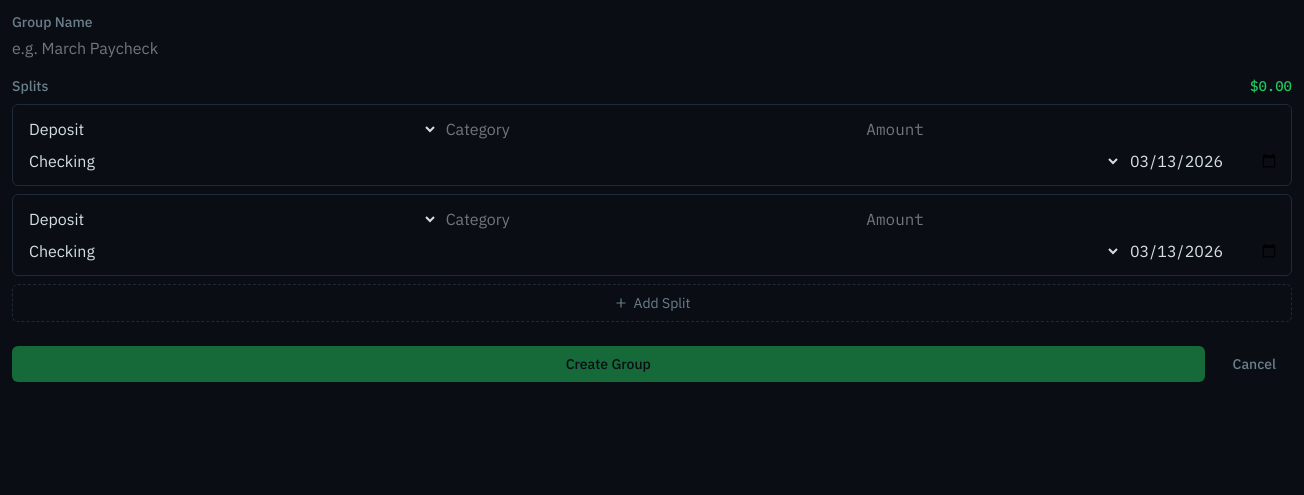
Test case: TransactionGroupForm › adds a new member row when clicking add button
Click the button "Add Split" at (652, 303), box [12,284,1292,322]
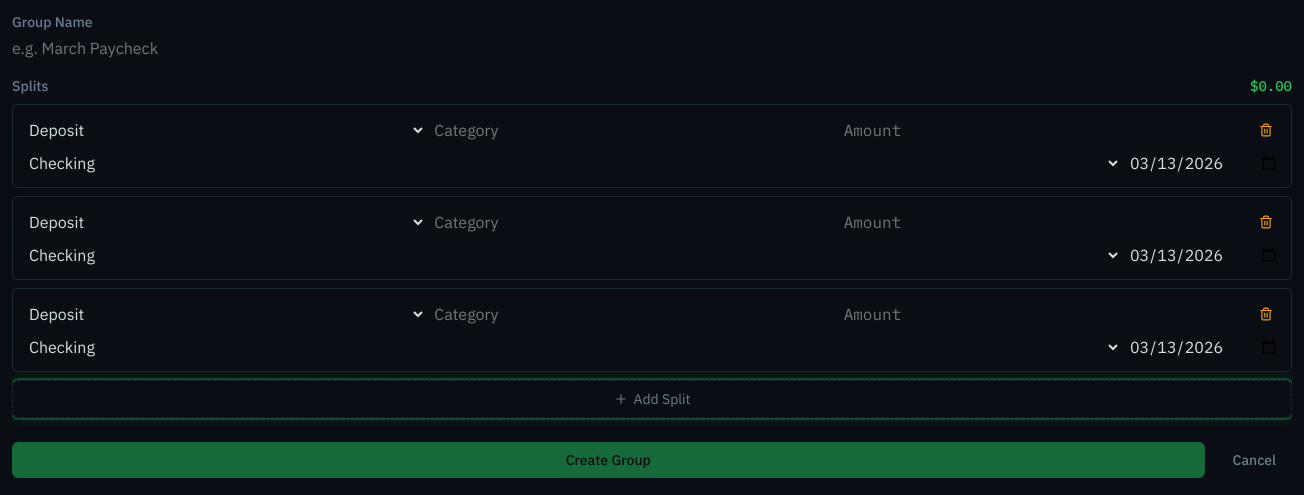
expect the number of elements with test id "member-row" is 3: met, box [12,104,1292,188]; [12,196,1292,280]; [12,288,1292,372]
